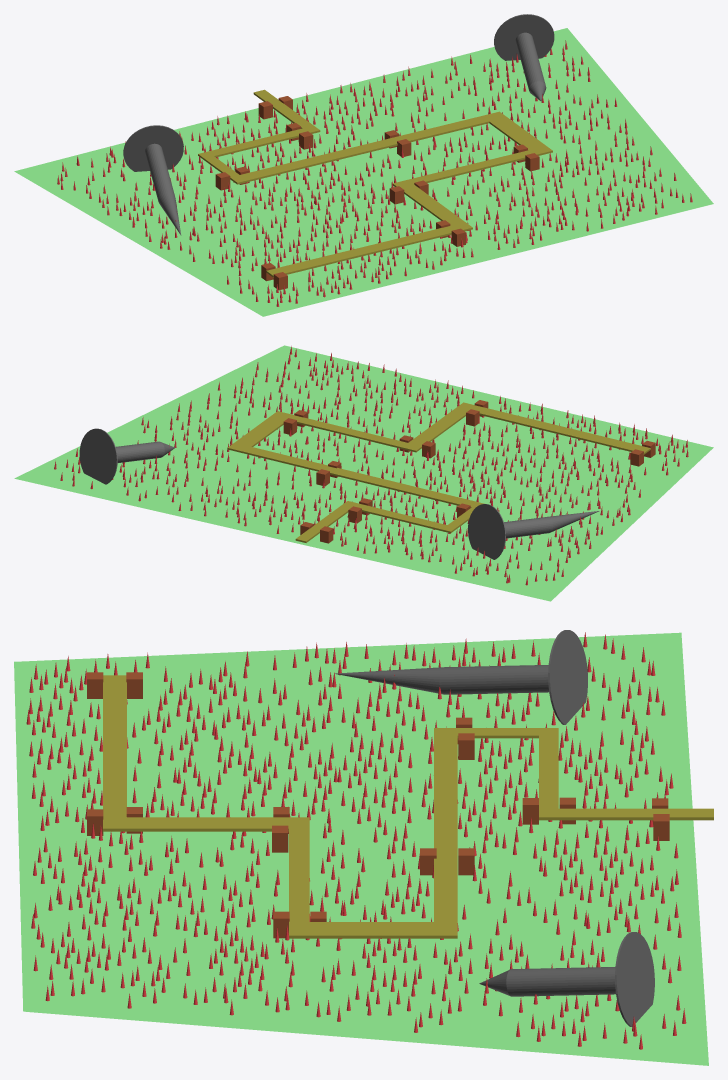
Rendered from map2.fbx.
3 views of the same model, one above another, from view 1: azimuth 30°, elevation 25°; view 2: azimuth 150°, elevation 25°; view 3: azimuth 270°, elevation 25° (orthographic). The views are drawn at different scales.
Visible parts, largest first — view 1: zemin, yol, civi, civi.001, ayak; view 2: zemin, yol, civi, civi.001, ayak; view 3: zemin, yol, civi, civi.001, ayak.
Boxes of the visible parts, left/top/right/bottom form: zemin: left=14, top=28, right=713, bottom=316; yol: left=198, top=89, right=552, bottom=277; civi: left=123, top=125, right=183, bottom=235; civi.001: left=494, top=14, right=554, bottom=100; ayak: left=215, top=96, right=539, bottom=290; zemin: left=14, top=345, right=713, bottom=601; yol: left=227, top=402, right=650, bottom=542; civi: left=468, top=504, right=599, bottom=559; civi.001: left=79, top=428, right=174, bottom=484; ayak: left=283, top=400, right=655, bottom=543; zemin: left=14, top=632, right=708, bottom=1065; yol: left=103, top=675, right=713, bottom=938; civi: left=335, top=630, right=587, bottom=724; civi.001: left=479, top=932, right=654, bottom=1026; ayak: left=87, top=672, right=669, bottom=938.
Bounding box in the file's own units: 5835 × 817 × 3984.
